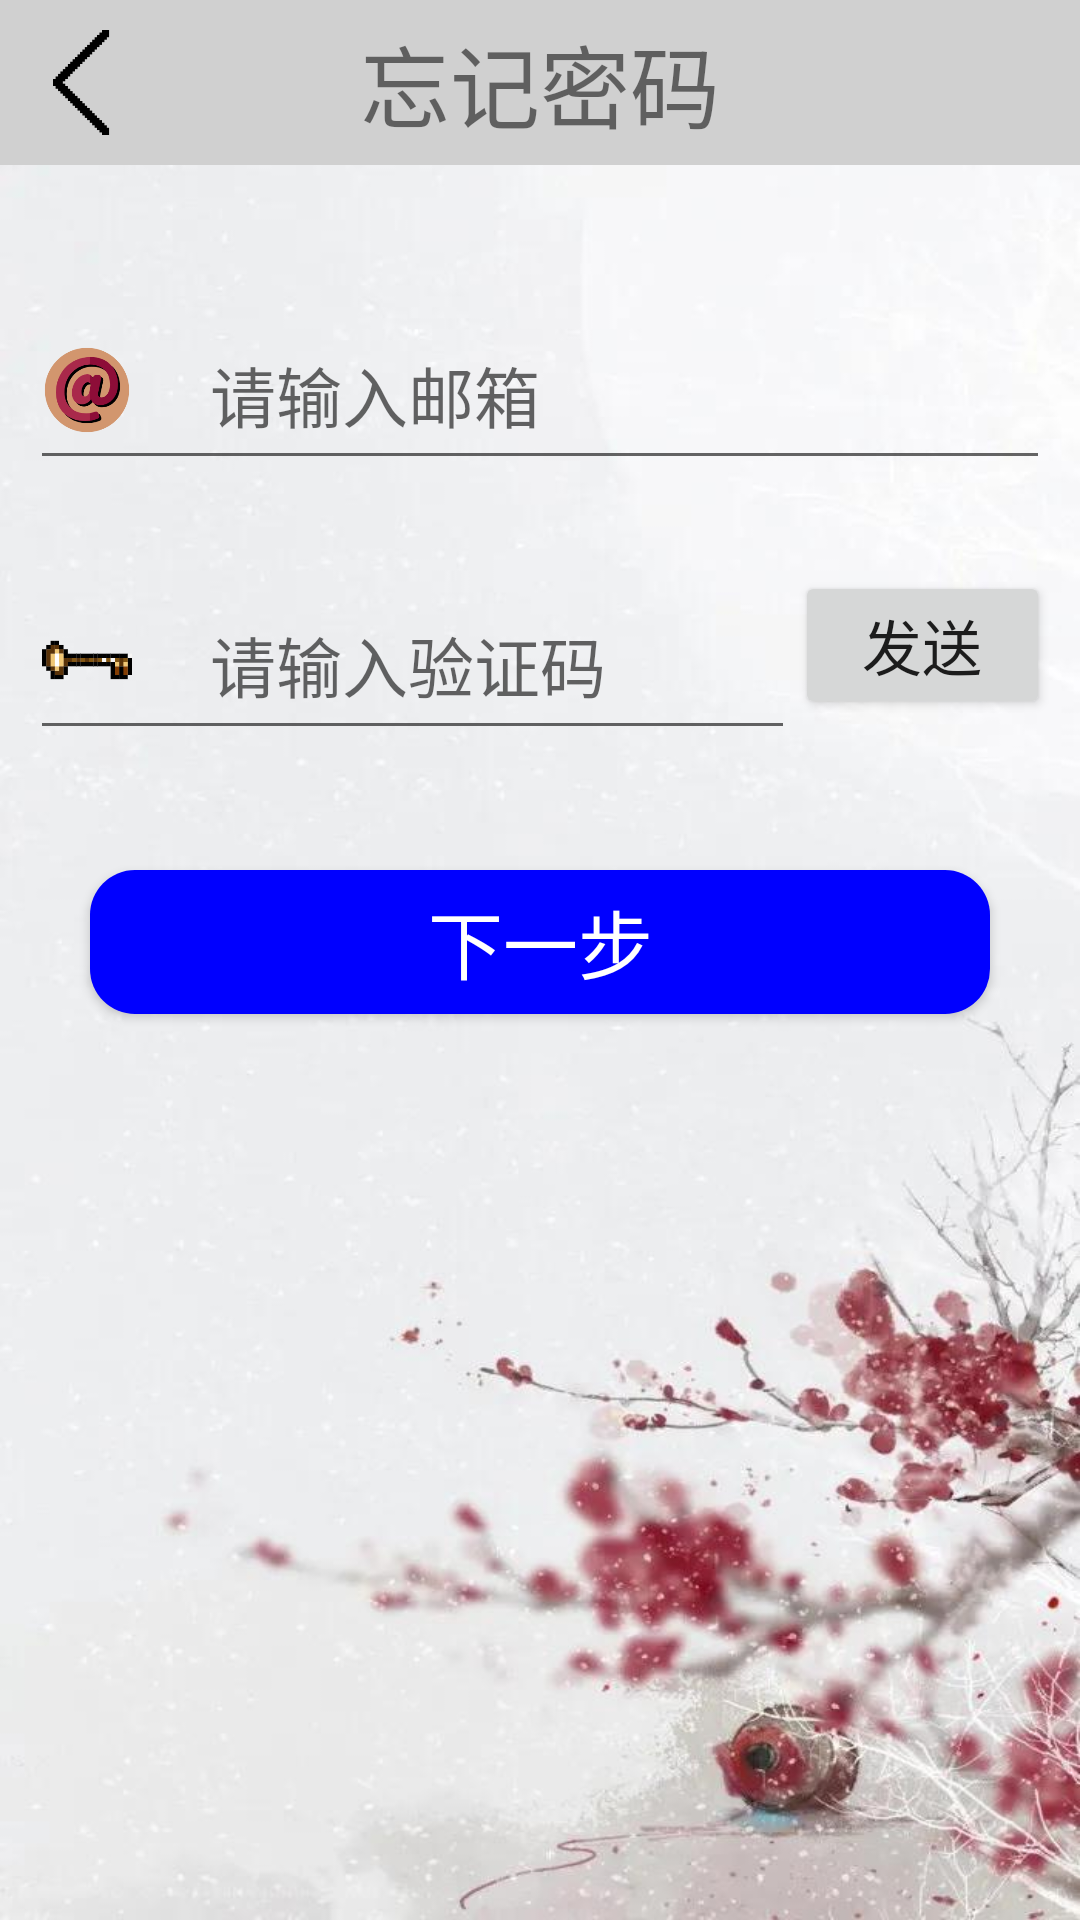

Icon bounding boxes for this 1080px×1920px phone screenshot, format (x1, y1, x2, y2):
leftarrow: (53, 30, 109, 135)
